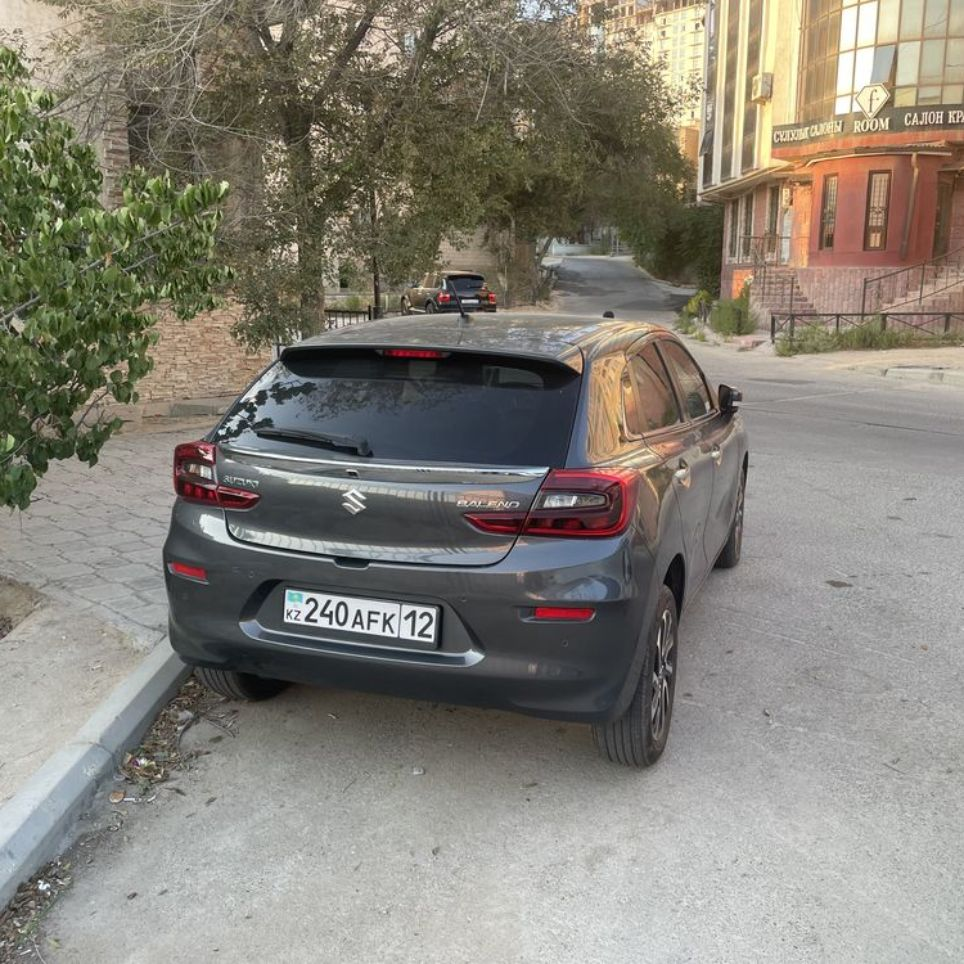license plate: (283, 586, 435, 647)
truck: (167, 312, 749, 762)
